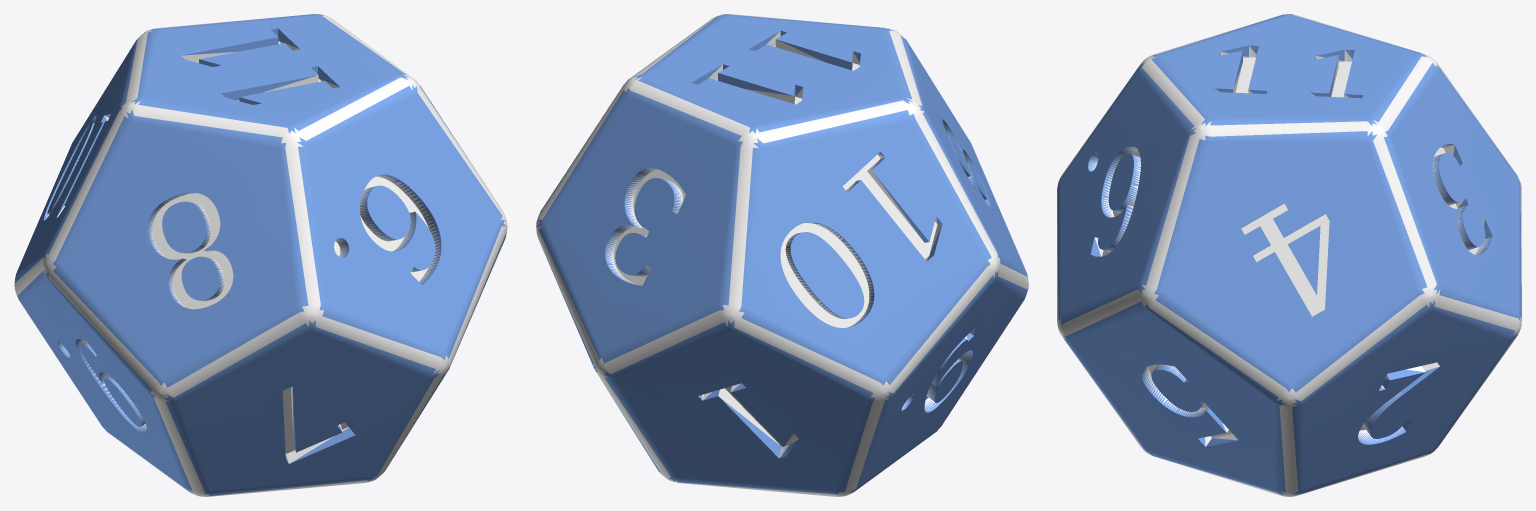
3 renders of one model, left to right at view 1: azimuth 30°, elevation 25°; view 2: azimuth 150°, elevation 25°; view 3: azimuth 270°, elevation 25°, orthographic. The views are drawn at different scales.
Parts seen in each view (by area): view 1: body, pips; view 2: body, pips; view 3: body, pips.
Boxes of the visible parts, x1,y1,x2,y2 form: body: [14, 14, 506, 495]; pips: [14, 14, 507, 496]; body: [536, 14, 1027, 494]; pips: [536, 14, 1028, 496]; body: [1057, 14, 1521, 495]; pips: [1057, 14, 1521, 496].
Size of the model in its own units: 1.99 by 1.66 by 1.91.
